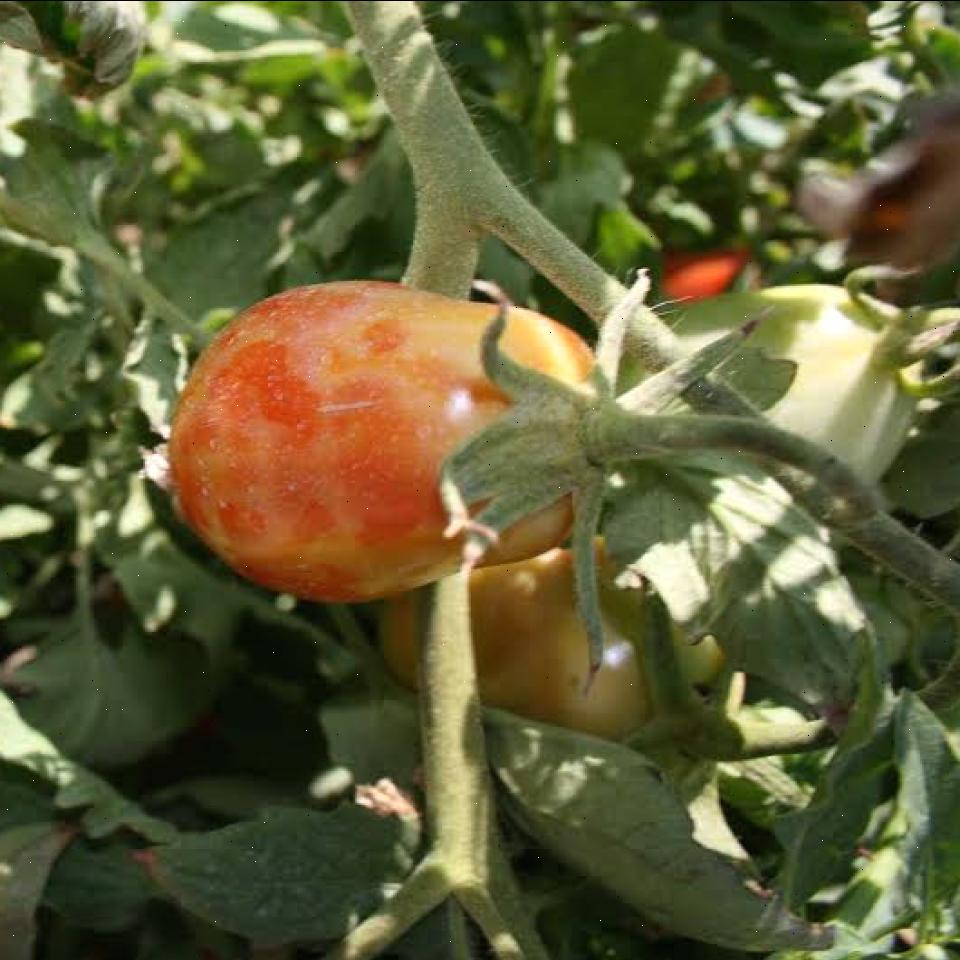Spotted wilt Virus: (161, 280, 615, 607)
